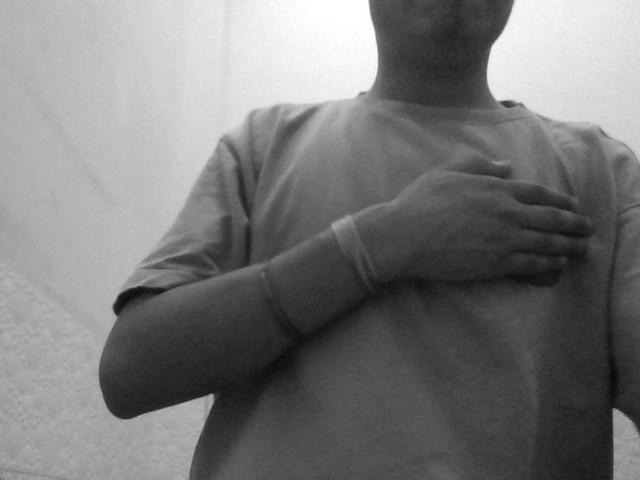Sorry: (379, 132, 598, 340)
